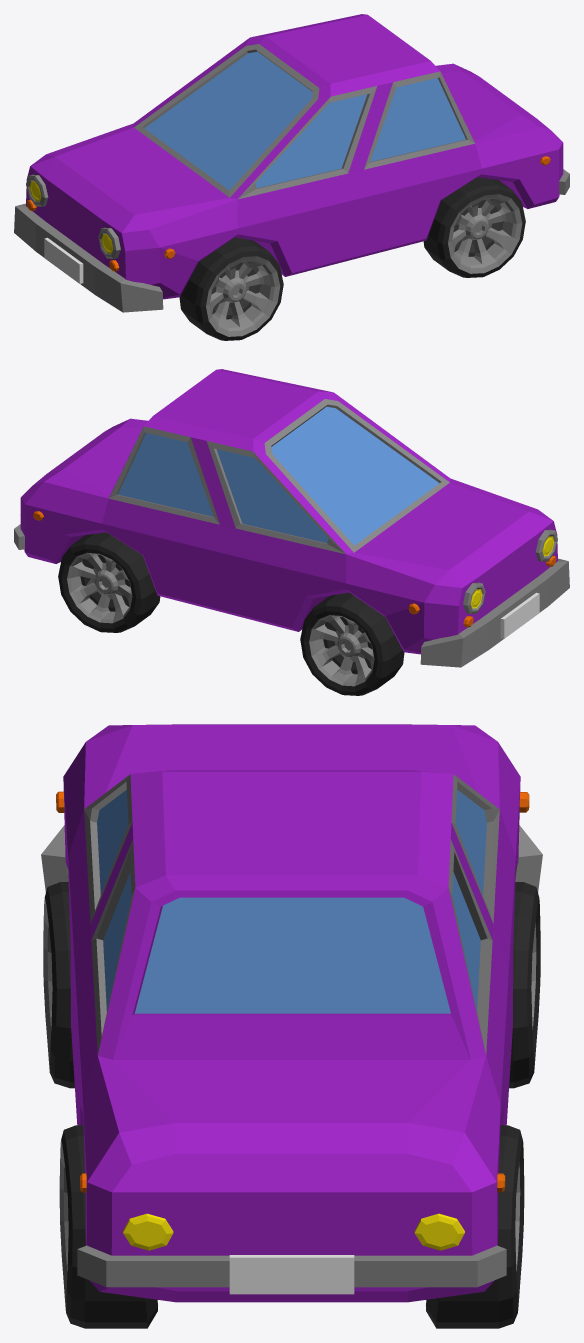
File: Car-2.fbx
The picture shows the model from 3 angles, top to bottom: view 1: azimuth 30°, elevation 25°; view 2: azimuth 150°, elevation 25°; view 3: azimuth 270°, elevation 25°; orthographic projection. The views are drawn at different scales.
Visible parts, largest first — view 1: Car-2; view 2: Car-2; view 3: Car-2.
Part boxes in pixels (x1,y1,x2,y2): Car-2: (14, 14, 569, 340); Car-2: (14, 369, 569, 695); Car-2: (41, 724, 542, 1328).
Size of the model in its own units: 8.98 by 3.88 by 4.2.
